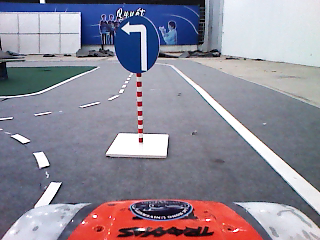turn: (111, 13, 160, 75)
